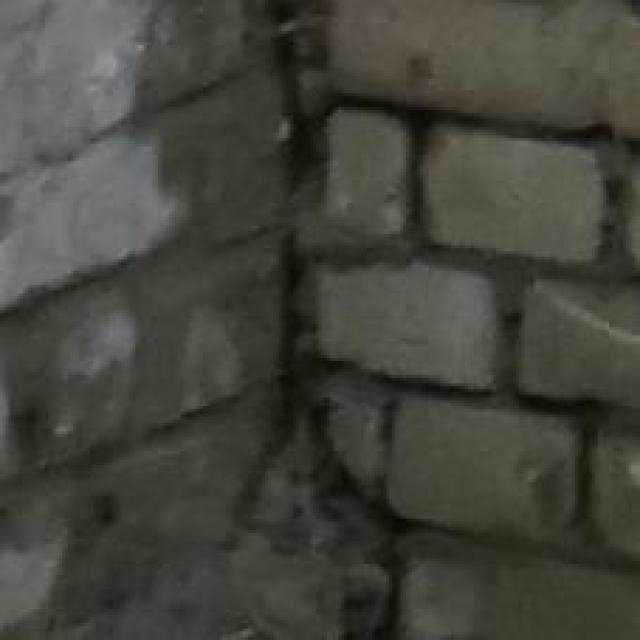Crack: (156, 0, 598, 640)
